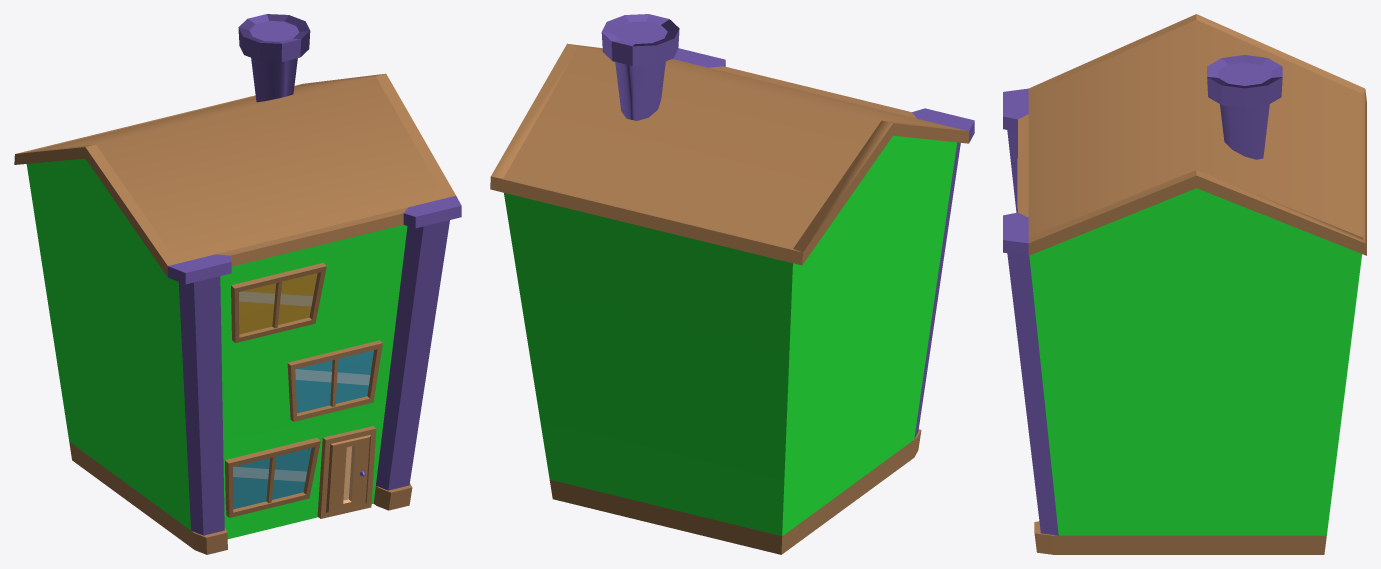
File: House3.FBX
3 renders of one model, left to right at view 1: azimuth 30°, elevation 25°; view 2: azimuth 150°, elevation 25°; view 3: azimuth 270°, elevation 25°, orthographic. The views are drawn at different scales.
Visible parts, largest first — view 1: House3; view 2: House3; view 3: House3.
Part boxes in pixels (x1,y1,x2,y2): House3: (14,14,461,554); House3: (490,14,974,554); House3: (1003,14,1366,554).
Bounding box in the file's own units: 294 × 390 × 280.
